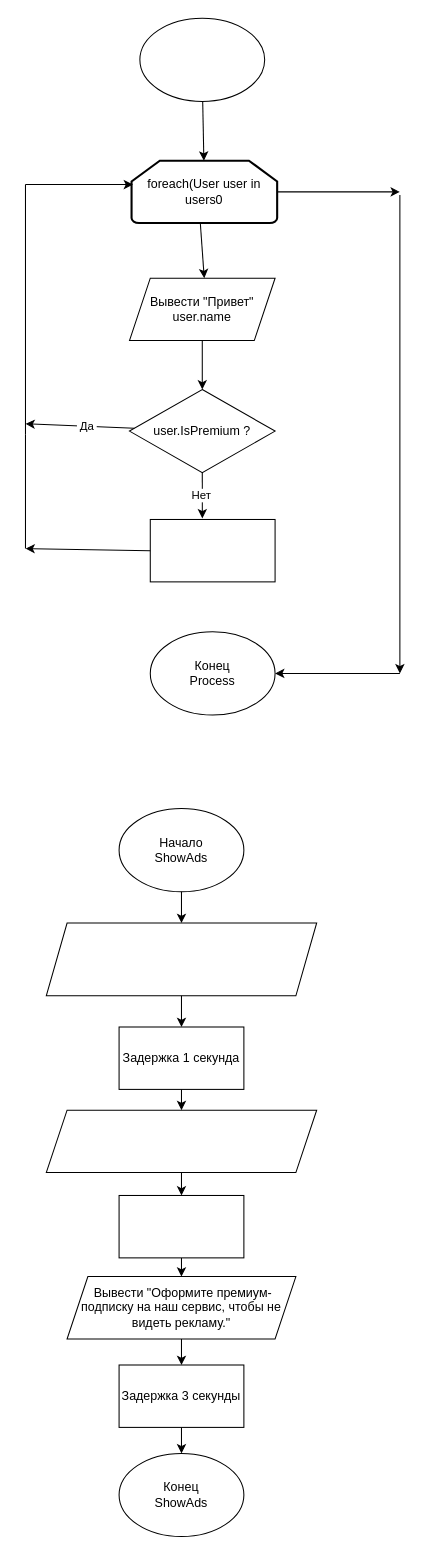
The diagram is 426 pixels wide and 1555 high, and some of its shapes have lost their labels. The shapes that lost their labels are listed below. From the top down, each one's centre as x and y in pixels, then its label:
the point at 202,59: Начало Process
the point at 212,550: Вызвать ShowAds
the point at 181,959: Вывести "Посетите наш новый сайт с бесплатными играми free.games.for.a.fool.com"
the point at 181,1141: Вывести "Купите подписку на МыКомбо и слушайте музыку везде и всегда."
the point at 181,1226: Задержка 2 секунды
